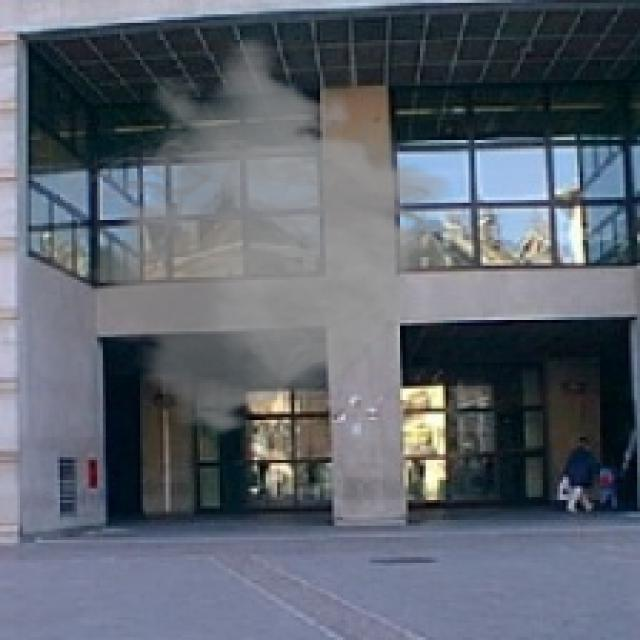Smoke: (57, 34, 466, 437)
